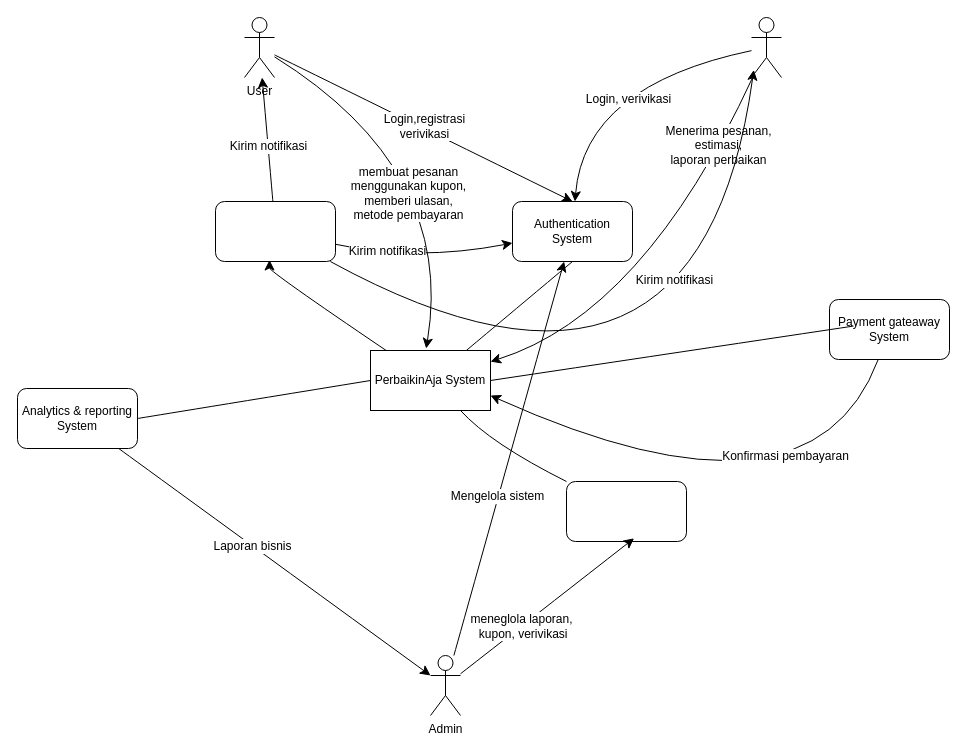
This 967x754 diagram has some shape labels left out. The shapes that lost their labels are listed below. From the top down, each one's box as (x1, y1, x2, y2) in pixels, then its label:
(750, 16, 782, 78): Technician
(214, 200, 336, 262): Notification System
(566, 480, 686, 542): admin system
